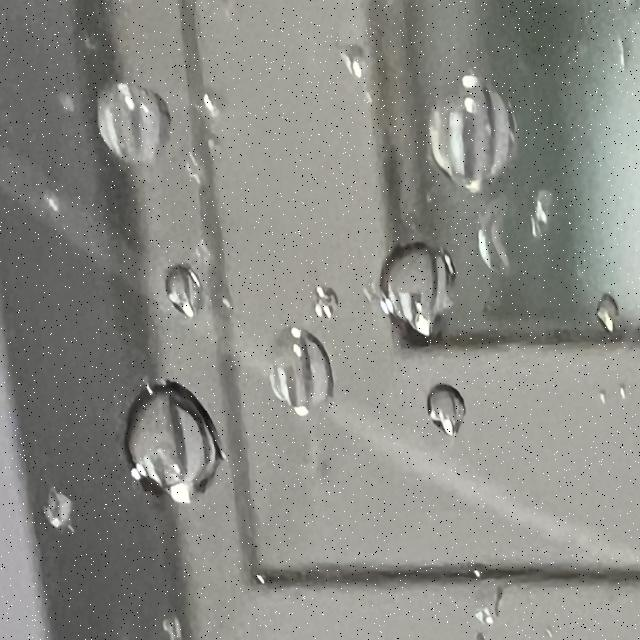raindrop: (88, 391, 227, 547), (407, 61, 525, 190), (257, 306, 351, 417), (361, 237, 455, 344), (416, 362, 484, 441), (88, 86, 162, 152), (470, 204, 520, 290), (513, 171, 569, 240), (133, 270, 206, 318), (25, 480, 82, 537), (480, 572, 524, 630), (595, 302, 635, 342), (172, 146, 214, 182), (157, 607, 191, 639), (191, 86, 219, 124), (149, 508, 151, 510)
